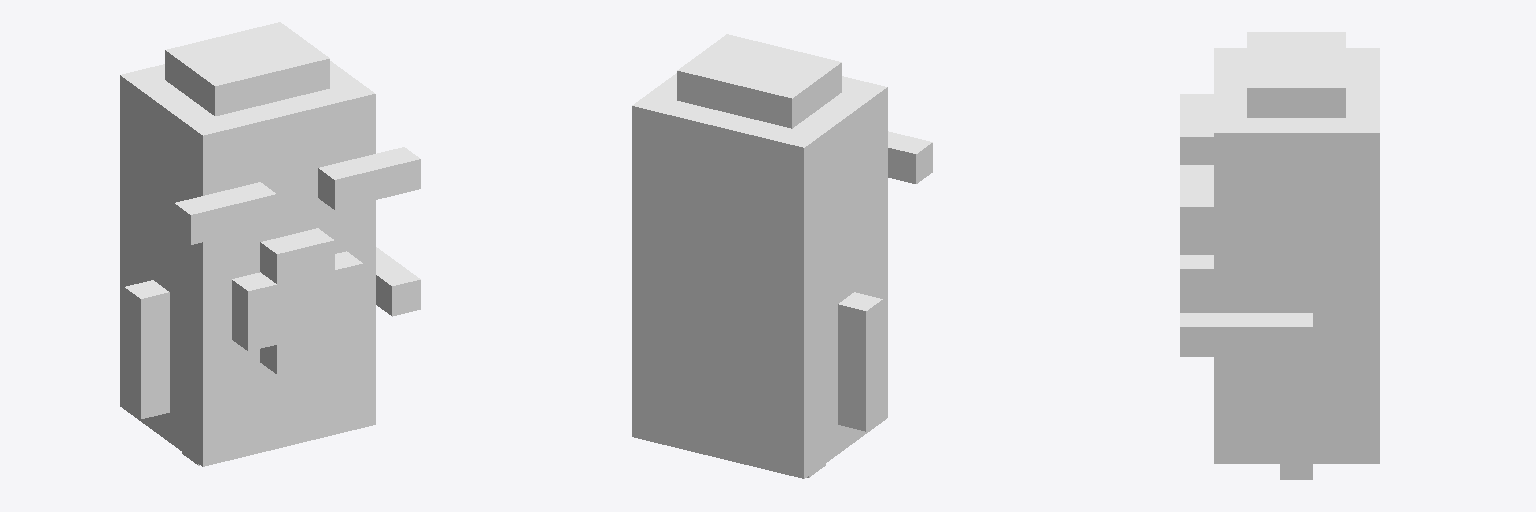
File: chr_old_lh.obj
3 renders of one model, left to right at view 1: azimuth 30°, elevation 25°; view 2: azimuth 150°, elevation 25°; view 3: azimuth 270°, elevation 25°, orthographic.
Parts seen in each view (by area): view 1: chr_old_lh; view 2: chr_old_lh; view 3: chr_old_lh.
Part boxes in pixels (left/top/right/bottom): chr_old_lh: left=120, top=22, right=420, bottom=466; chr_old_lh: left=632, top=34, right=932, bottom=478; chr_old_lh: left=1180, top=32, right=1379, bottom=479.
Bounding box in the file's own units: 8 × 13 × 6.